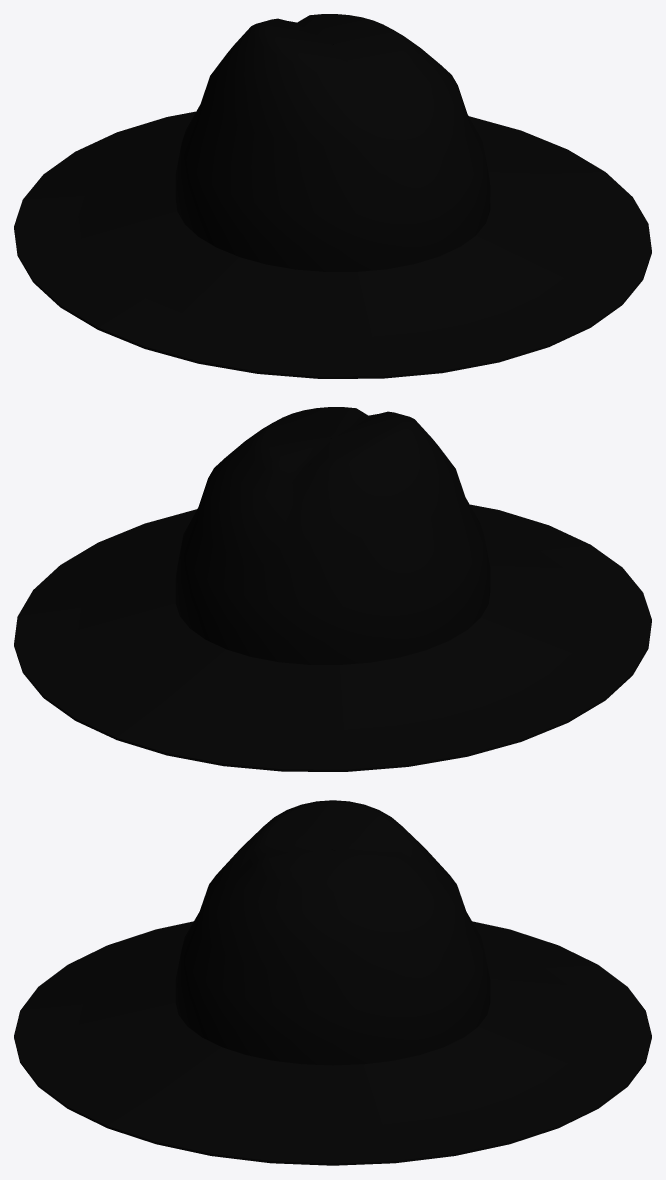
File: Arsonist_Hat.fbx
The picture shows the model from 3 angles, top to bottom: view 1: azimuth 30°, elevation 25°; view 2: azimuth 150°, elevation 25°; view 3: azimuth 270°, elevation 25°; orthographic projection. The views are drawn at different scales.
Parts seen in each view (by area): view 1: Sphere001; view 2: Sphere001; view 3: Sphere001.
Boxes of the visible parts, x1,y1,x2,y2 form: Sphere001: (14,14,651,378); Sphere001: (14,407,651,771); Sphere001: (14,800,651,1165).
Bounding box in the file's own units: 28.61 × 10.91 × 30.19.
Materials: 1 (1 with a texture image).
